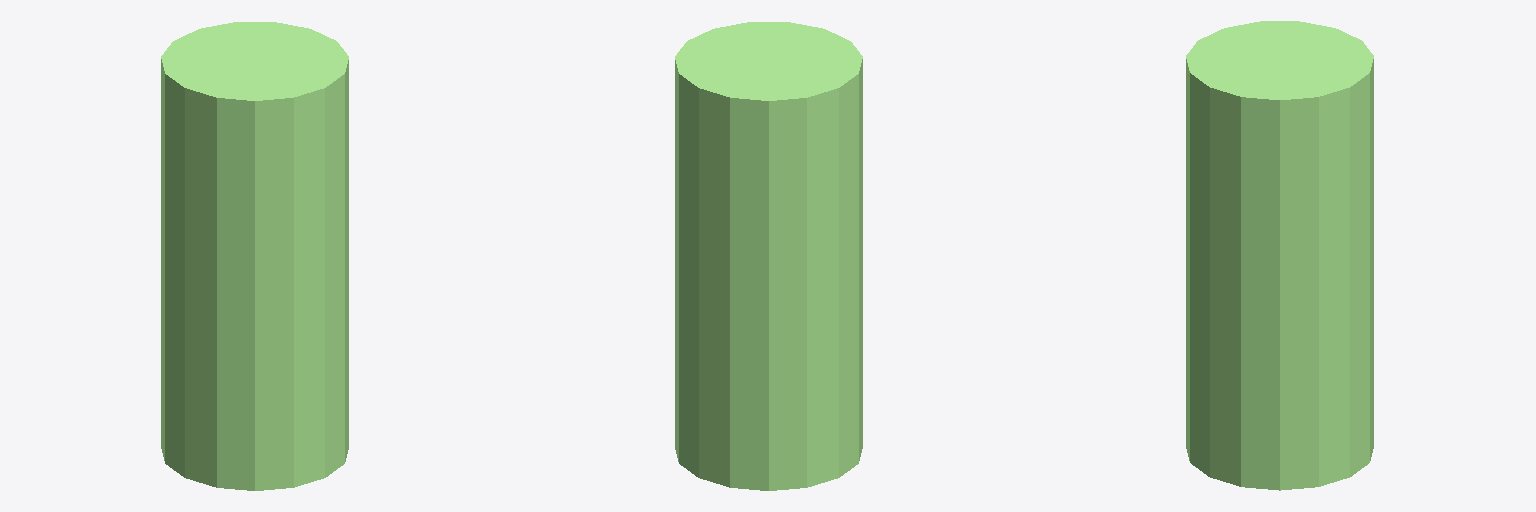
File: Laser.obj
The picture shows the model from 3 angles: view 1: azimuth 30°, elevation 25°; view 2: azimuth 150°, elevation 25°; view 3: azimuth 270°, elevation 25°; orthographic projection.
Parts seen in each view (by area): view 1: pCylinder1; view 2: pCylinder1; view 3: pCylinder1.
Boxes of the visible parts, box(x1,y1,x2,y2) form: pCylinder1: box(161, 22, 348, 490); pCylinder1: box(675, 22, 862, 490); pCylinder1: box(1186, 21, 1373, 490).
Size of the model in its own units: 0.7592 by 1.74 by 0.7634.